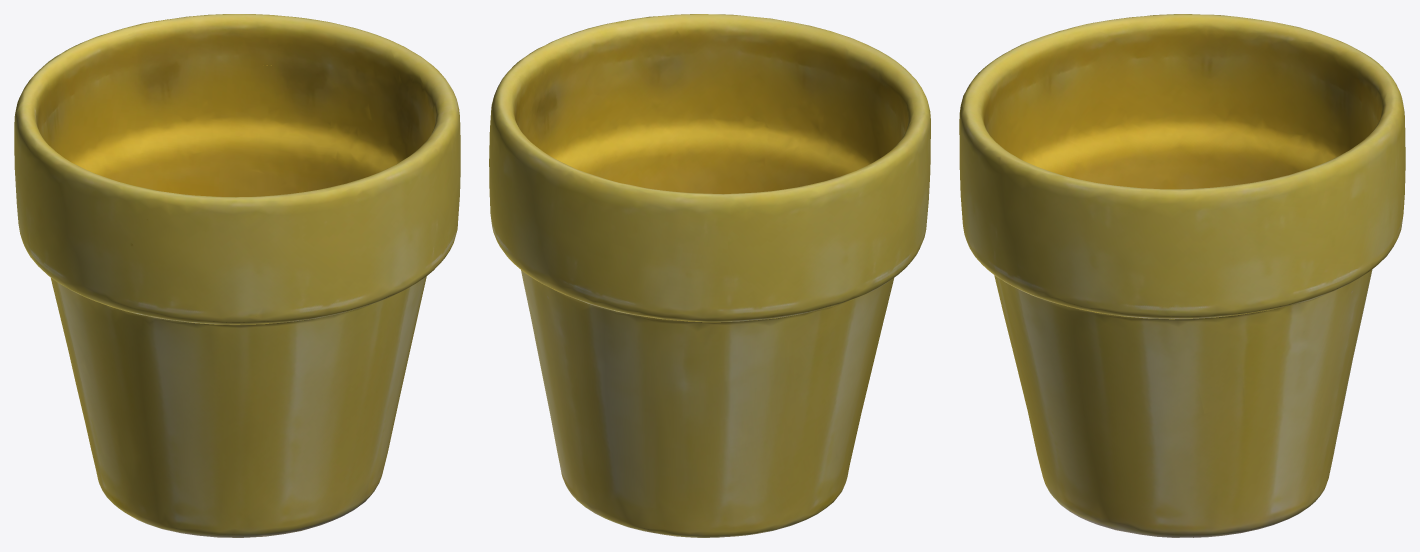
Rendered from Pennington_Electric_Pot_Cabana_4.glb.
3 renders of one model, left to right at view 1: azimuth 30°, elevation 25°; view 2: azimuth 150°, elevation 25°; view 3: azimuth 270°, elevation 25°, orthographic.
Parts seen in each view (by area): view 1: Pennington_Electric_Pot_Cabana_4; view 2: Pennington_Electric_Pot_Cabana_4; view 3: Pennington_Electric_Pot_Cabana_4.
Part boxes in pixels (<box>): Pennington_Electric_Pot_Cabana_4: <box>14,14,460,537</box>; Pennington_Electric_Pot_Cabana_4: <box>489,14,930,537</box>; Pennington_Electric_Pot_Cabana_4: <box>959,14,1405,537</box>.
Bounding box in the file's own units: 0.1036 × 0.0978 × 0.1034.
Materials: 1 (1 with a texture image).
